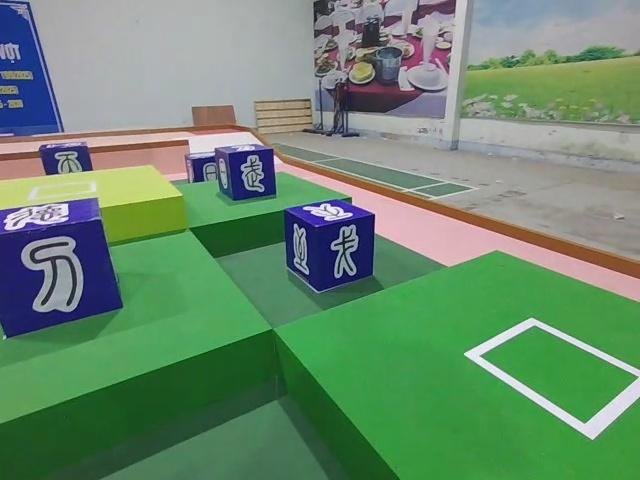R2 Fake Blue: (1, 198, 123, 341), (282, 198, 376, 289), (213, 144, 279, 203), (38, 143, 93, 173), (185, 153, 218, 184)
